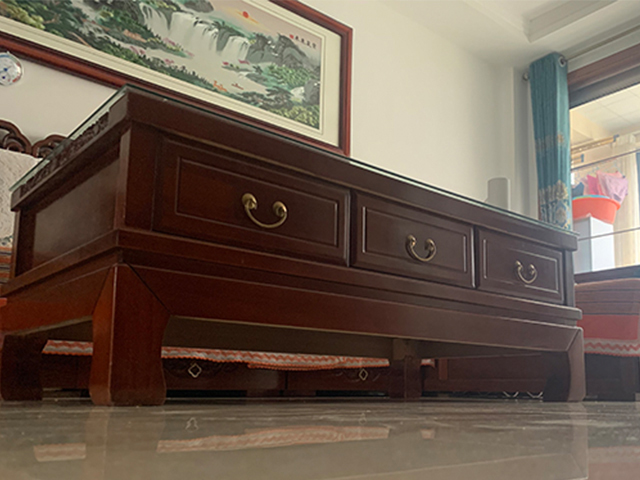table: (1, 83, 585, 407)
